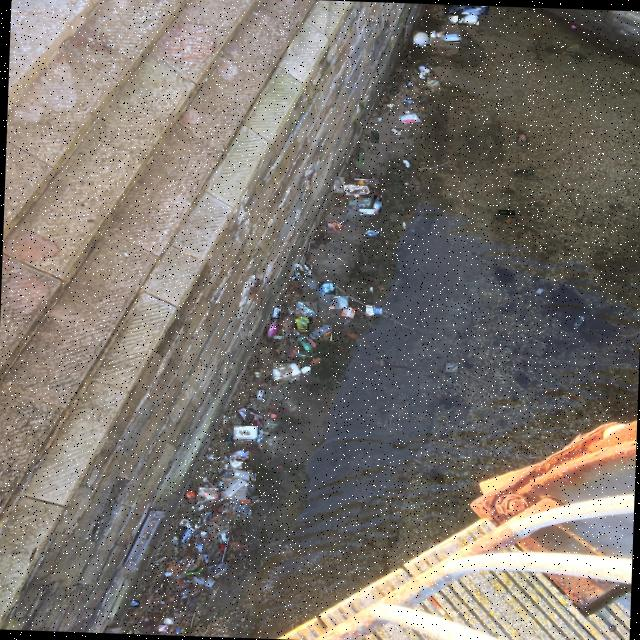Clear plastic bottle: (297, 337, 315, 355), (291, 341, 306, 356), (267, 319, 279, 336), (444, 4, 461, 14), (334, 177, 344, 192), (354, 179, 378, 185), (373, 195, 381, 212)
Drink can: (573, 316, 585, 330), (517, 134, 526, 144), (567, 44, 579, 50), (499, 211, 515, 215)
Other plastic: (237, 408, 264, 425), (296, 302, 316, 317), (295, 317, 312, 330), (399, 114, 420, 124), (327, 220, 343, 232), (340, 306, 355, 318)
Other plastic bottle: (186, 568, 203, 576), (186, 491, 196, 499), (180, 519, 189, 525), (430, 30, 436, 37)
Other plastic container: (221, 478, 246, 499)
Paper cup: (418, 66, 430, 74)
Plastic bottle cap: (217, 509, 221, 513), (219, 545, 224, 548), (215, 501, 219, 504), (222, 488, 225, 491), (204, 554, 207, 557), (175, 629, 179, 631), (209, 515, 212, 517)
Plastic film: (309, 325, 332, 339), (459, 5, 489, 14), (330, 296, 348, 309)
Plastic lid: (250, 473, 255, 481), (271, 414, 275, 417)
Plastic straw: (221, 538, 228, 562), (371, 131, 378, 143), (308, 237, 312, 252), (301, 254, 304, 264)
Unlabeled litter: (273, 363, 299, 380), (233, 426, 256, 440), (179, 527, 196, 545), (198, 487, 218, 501), (458, 13, 478, 25), (233, 469, 252, 481), (230, 450, 249, 461), (414, 33, 430, 46), (295, 263, 310, 276), (319, 282, 335, 294), (349, 198, 371, 206), (515, 170, 533, 177), (448, 16, 462, 24), (444, 34, 460, 41), (446, 363, 458, 372), (205, 577, 215, 587), (366, 305, 374, 316), (230, 461, 242, 468), (358, 209, 378, 213), (390, 129, 401, 136), (257, 427, 262, 442), (273, 307, 279, 319), (366, 230, 380, 235), (194, 577, 204, 584), (403, 96, 412, 103), (130, 600, 139, 607), (437, 32, 447, 38), (159, 625, 167, 632), (427, 81, 438, 86), (301, 367, 310, 373), (164, 618, 173, 624), (198, 542, 203, 552), (221, 533, 227, 541), (406, 81, 413, 87), (257, 391, 264, 397), (373, 308, 380, 313), (403, 160, 409, 165), (274, 336, 283, 339), (377, 117, 382, 122), (228, 435, 232, 441), (201, 532, 207, 536), (292, 276, 298, 280), (219, 481, 223, 487), (225, 464, 231, 468), (387, 104, 394, 107), (195, 517, 199, 522), (405, 111, 410, 114), (195, 525, 198, 529), (254, 373, 259, 375), (369, 288, 372, 291), (403, 223, 405, 227)
